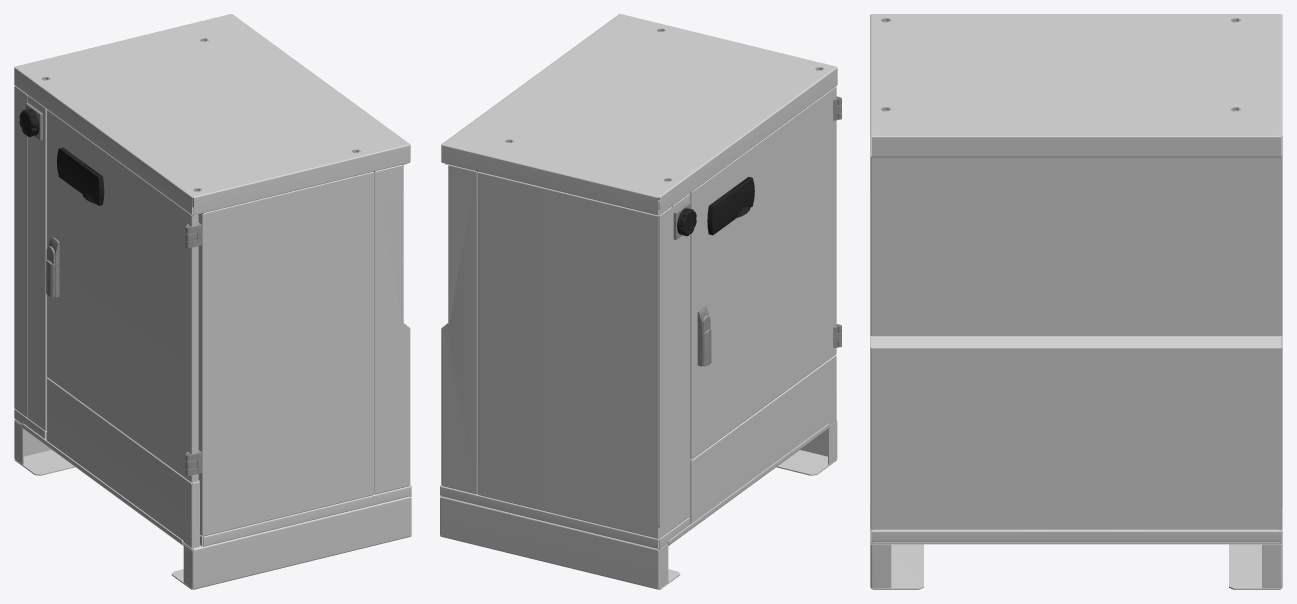
The picture shows the model from 3 angles, left to right: view 1: azimuth 30°, elevation 25°; view 2: azimuth 150°, elevation 25°; view 3: azimuth 270°, elevation 25°; orthographic projection. The views are drawn at different scales.
Parts seen in each view (by area): view 1: 09_panel, 09_paint, 09_black, 09_metal; view 2: 09_panel, 09_paint, 09_black, 09_metal; view 3: 09_panel, 09_paint.
Part boxes in pixels (left/top/right/bottom): 09_panel: left=14, top=14, right=411, bottom=548; 09_paint: left=14, top=419, right=411, bottom=589; 09_black: left=19, top=109, right=374, bottom=215; 09_metal: left=25, top=38, right=359, bottom=475; 09_panel: left=440, top=14, right=837, bottom=548; 09_paint: left=440, top=419, right=837, bottom=589; 09_black: left=477, top=171, right=754, bottom=527; 09_metal: left=505, top=28, right=841, bottom=366; 09_panel: left=870, top=14, right=1282, bottom=542; 09_paint: left=870, top=542, right=1282, bottom=589.
Size of the model in its own units: 0.5869 by 0.9599 by 0.7925.
Materials: 3 (1 with a texture image).
